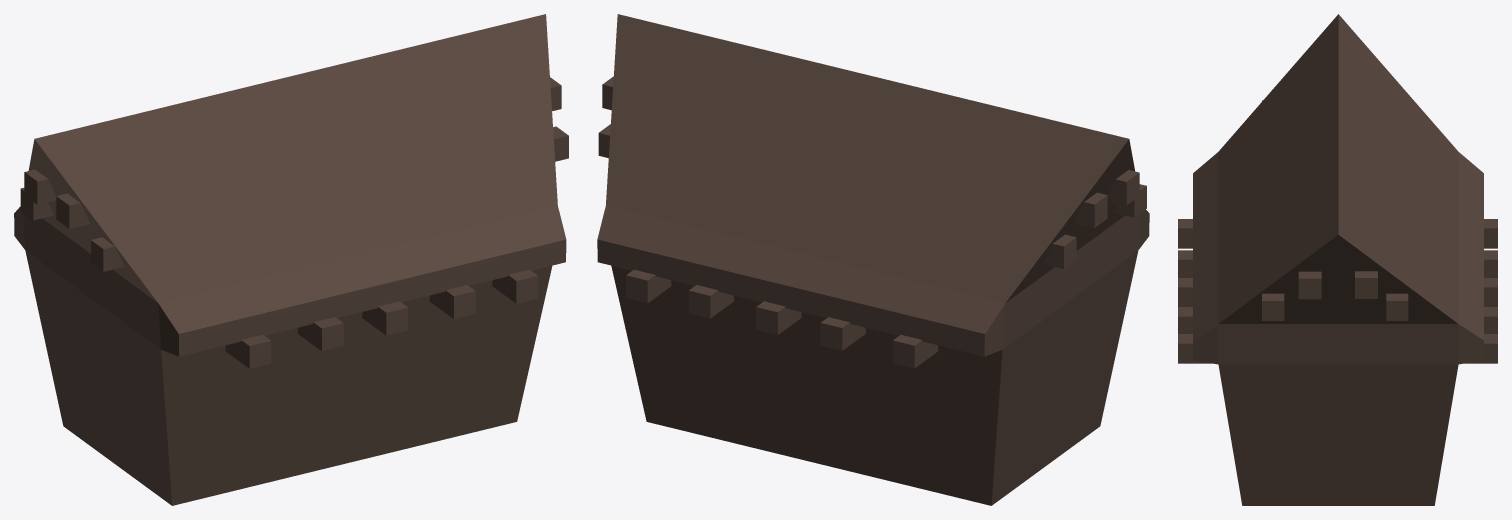
The model's file is House02.fbx.
3 views of the same model, side by side, from view 1: azimuth 30°, elevation 25°; view 2: azimuth 150°, elevation 25°; view 3: azimuth 270°, elevation 25° (orthographic). The views are drawn at different scales.
Parts seen in each view (by area): view 1: pCube64; view 2: pCube64; view 3: pCube64.
Boxes of the visible parts, bbox=[...] form: pCube64: bbox=[14, 14, 568, 505]; pCube64: bbox=[597, 14, 1149, 505]; pCube64: bbox=[1178, 14, 1497, 505].
Size of the model in its own units: 0.5531 by 0.3591 by 0.3388.
